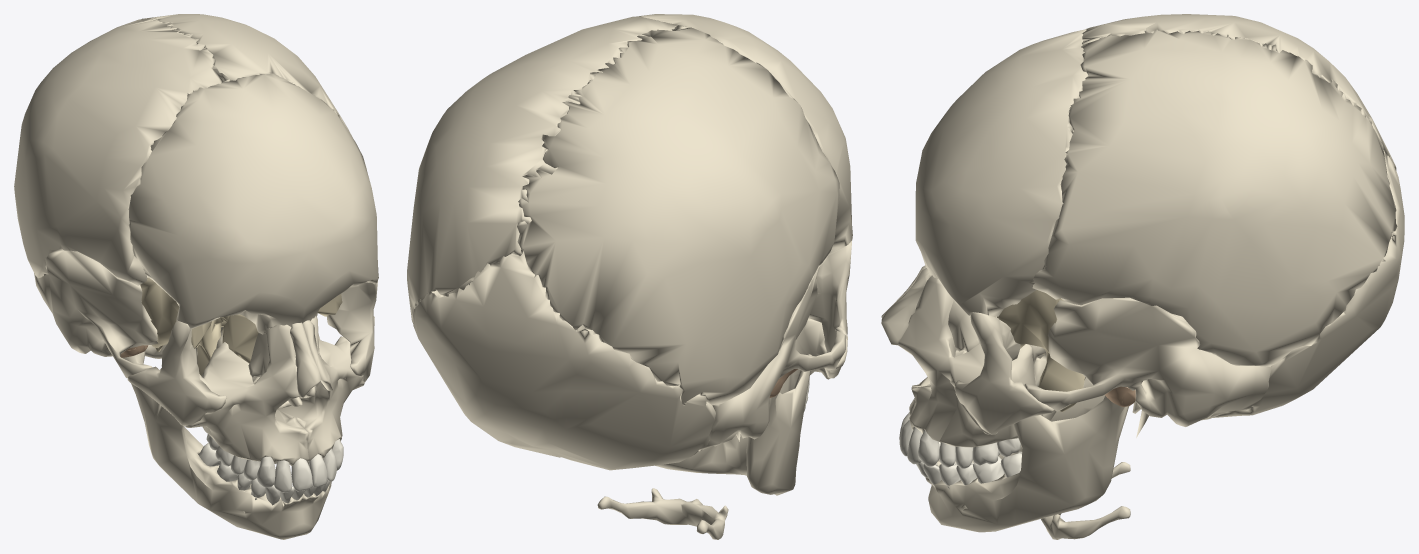
File: zanatomy-skull.glb
The picture shows the model from 3 angles, left to right: view 1: azimuth 30°, elevation 25°; view 2: azimuth 150°, elevation 25°; view 3: azimuth 270°, elevation 25°; orthographic projection. The views are drawn at different scales.
Visible parts, largest first — view 1: za_frontal_1, za_parietal_2, za_maxilla_2, za_temporal_2, za_mandible_1, za_parietal_1, za_zygomatic_2, za_maxilla_1, za_sphenoid_1, za_zygomatic_1, za_nasal_2, za_ethmoid_1 (+6 smaller); view 2: za_parietal_2, za_occipital_1, za_parietal_1, za_frontal_1, za_mandible_1, za_temporal_2, za_zygomatic_2, za_hyoid_1, za_maxilla_2; view 3: za_parietal_1, za_frontal_1, za_temporal_1, za_mandible_1, za_maxilla_1, za_occipital_1, za_zygomatic_1, za_parietal_2, za_sphenoid_1, za_hyoid_1, za_nasal_1, za_lacrimal_bone_1.
Boxes of the visible parts, x1,y1,x2,y2 form: za_frontal_1: (128, 73, 378, 334); za_parietal_2: (14, 17, 229, 285); za_maxilla_2: (185, 324, 308, 465); za_temporal_2: (34, 248, 157, 377); za_mandible_1: (122, 313, 331, 539); za_parietal_1: (141, 14, 366, 169); za_zygomatic_2: (127, 321, 226, 425); za_maxilla_1: (278, 316, 364, 461); za_sphenoid_1: (140, 277, 342, 376); za_zygomatic_1: (326, 281, 377, 382); za_nasal_2: (290, 322, 321, 397); za_ethmoid_1: (222, 314, 258, 363); za_parietal_2: (517, 25, 839, 405); za_occipital_1: (413, 253, 715, 470); za_parietal_1: (407, 16, 677, 323); za_frontal_1: (636, 14, 852, 253); za_mandible_1: (655, 354, 811, 495); za_temporal_2: (700, 263, 846, 449); za_zygomatic_2: (808, 241, 851, 378); za_hyoid_1: (597, 488, 728, 539); za_maxilla_2: (780, 318, 829, 393); za_parietal_1: (1032, 29, 1397, 366); za_frontal_1: (915, 29, 1088, 317); za_temporal_1: (1024, 297, 1271, 437); za_mandible_1: (925, 378, 1129, 532); za_maxilla_1: (898, 275, 1035, 447); za_occipital_1: (1213, 150, 1404, 417); za_zygomatic_1: (955, 312, 1054, 434); za_parietal_2: (1073, 14, 1396, 170); za_sphenoid_1: (997, 290, 1085, 412); za_hyoid_1: (1041, 462, 1130, 539); za_nasal_1: (881, 268, 930, 345); za_lacrimal_bone_1: (948, 300, 979, 351).
Size of the model in its own units: 0.1487 by 0.2139 by 0.2036.
